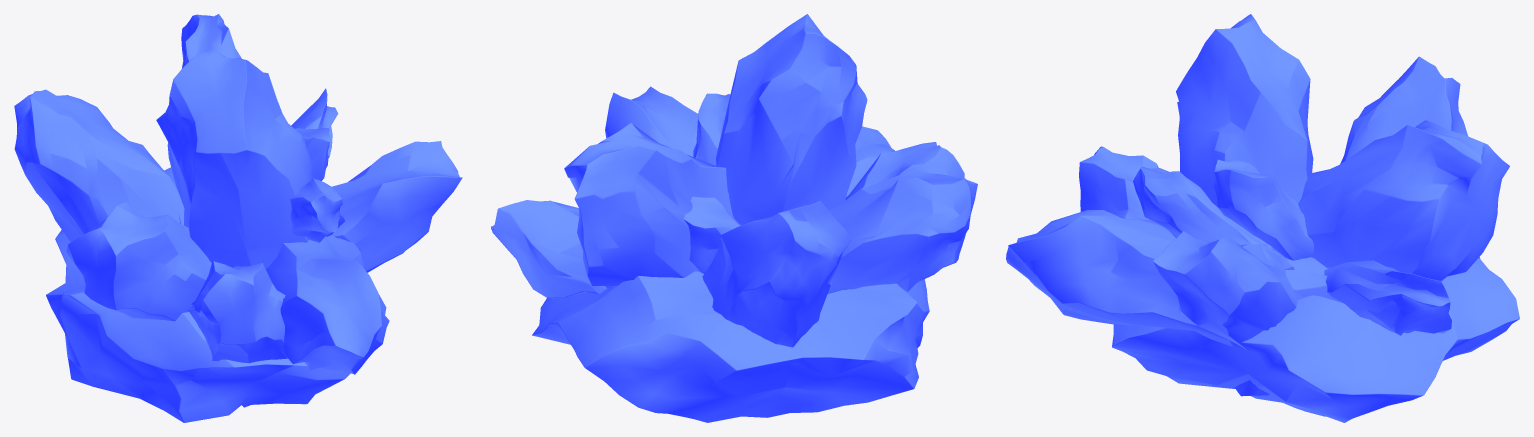
File: asset.gltf
3 renders of one model, left to right at view 1: azimuth 30°, elevation 25°; view 2: azimuth 150°, elevation 25°; view 3: azimuth 270°, elevation 25°, orthographic.
Parts seen in each view (by area): view 1: Cube, Cube.010, Cube.003, Cube.001, Cube.002, Cube.006, Cube.004, Cube.009, Cube.005, Cube.007, Cube.011; view 2: Cube.010, Cube, Cube.005, Cube.003, Cube.002, Cube.011, Cube.006, Cube.004, Cube.008, Cube.007, Cube.001; view 3: Cube.010, Cube.005, Cube, Cube.001, Cube.006, Cube.011, Cube.007, Cube.003, Cube.009, Cube.004.
Boxes of the visible parts, x1,y1,x2,y2 form: Cube: [156, 50, 311, 268]; Cube.010: [46, 167, 350, 422]; Cube.003: [14, 89, 182, 242]; Cube.001: [265, 235, 389, 374]; Cube.002: [66, 202, 211, 321]; Cube.006: [332, 141, 462, 272]; Cube.004: [188, 261, 287, 407]; Cube.009: [290, 178, 344, 242]; Cube.005: [181, 14, 241, 68]; Cube.007: [295, 128, 330, 180]; Cube.011: [291, 88, 338, 158]; Cube.010: [532, 271, 929, 422]; Cube: [716, 14, 867, 225]; Cube.005: [564, 123, 733, 288]; Cube.003: [702, 201, 850, 347]; Cube.002: [827, 168, 977, 293]; Cube.011: [491, 200, 606, 298]; Cube.006: [605, 86, 698, 156]; Cube.004: [845, 142, 964, 199]; Cube.008: [684, 196, 740, 273]; Cube.007: [693, 93, 730, 165]; Cube.001: [846, 126, 894, 196]; Cube.010: [1112, 257, 1519, 422]; Cube.005: [1298, 120, 1509, 281]; Cube: [1176, 14, 1313, 396]; Cube.001: [1006, 210, 1342, 346]; Cube.006: [1153, 231, 1297, 351]; Cube.011: [1324, 260, 1451, 335]; Cube.007: [1213, 159, 1313, 260]; Cube.003: [1340, 56, 1467, 164]; Cube.009: [1133, 166, 1294, 270]; Cube.004: [1079, 146, 1158, 219].
Bounding box in the file's own units: 5.22 × 4.66 × 6.25.
